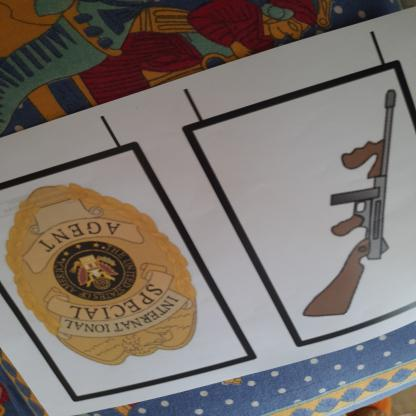Bootlegger: (288, 79, 416, 324)
G-man: (6, 175, 220, 369)
